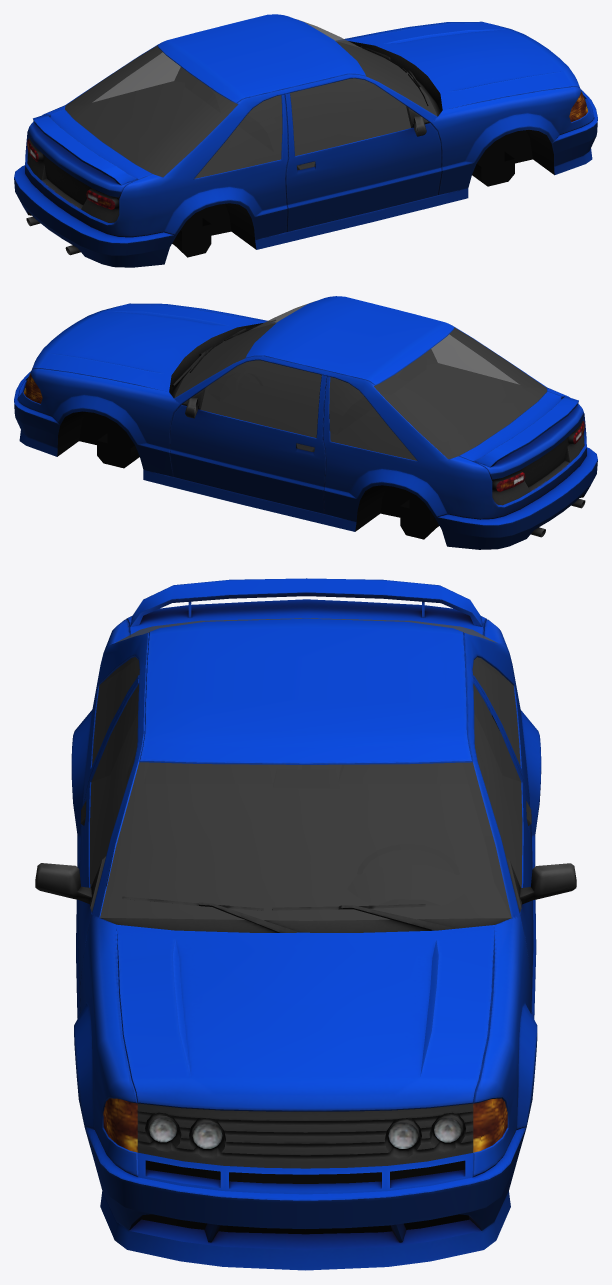
Rendered from sedan_body_only_baked.fbx.
3 views of the same model, one above another, from view 1: azimuth 30°, elevation 25°; view 2: azimuth 150°, elevation 25°; view 3: azimuth 270°, elevation 25° (orthographic). The views are drawn at different scales.
Parts seen in each view (by area): view 1: Coupe Body; view 2: Coupe Body; view 3: Coupe Body.
Part boxes in pixels (bbox=[...]): Coupe Body: bbox=[14, 14, 597, 267]; Coupe Body: bbox=[14, 296, 597, 549]; Coupe Body: bbox=[35, 578, 576, 1270].
Bounding box in the file's own units: 954 × 261 × 424.
Materials: 2 (1 with a texture image).
